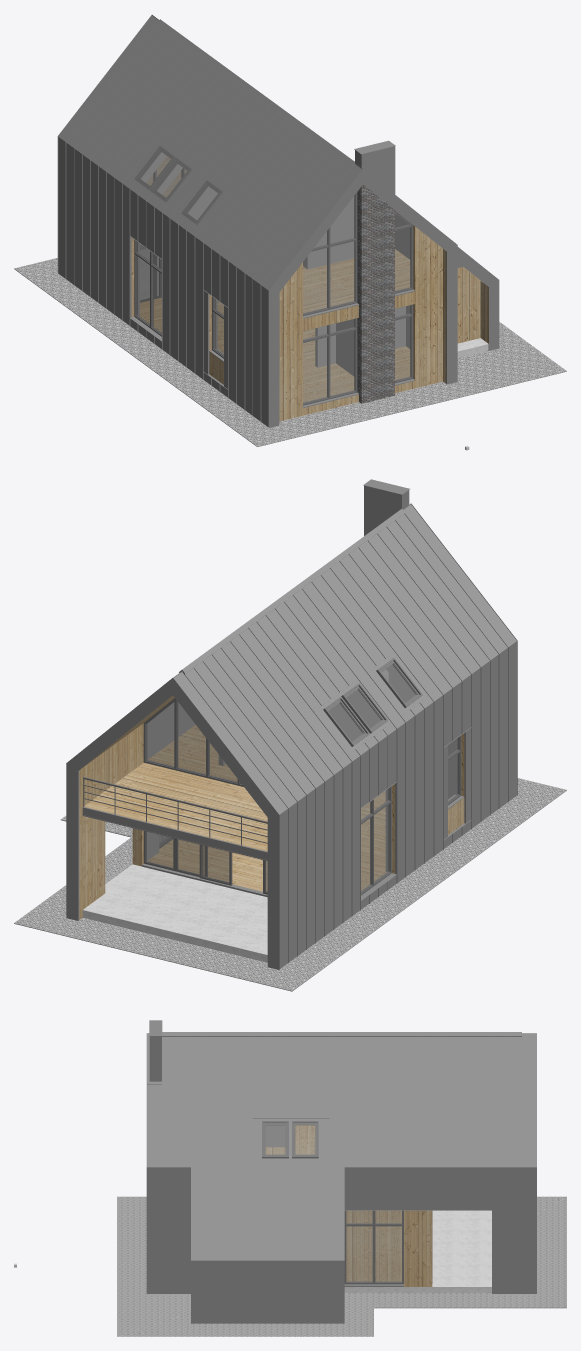
File: domik.glb
The picture shows the model from 3 angles, top to bottom: view 1: azimuth 30°, elevation 25°; view 2: azimuth 150°, elevation 25°; view 3: azimuth 270°, elevation 25°; orthographic projection. The views are drawn at different scales.
Visible parts, largest first — view 1: [0135_DarkGray] (×6), DOSKA 2 (×5), [Groundcover River Rock 4 inch], [Translucent_Glass_Gray] (×9), [Brick Tumbled], Default 150:150:150 (×3), WINDOWS (×3), [Polished Concrete Old]; view 2: [0135_DarkGray] (×5), DOSKA 2 (×3), [Groundcover River Rock 4 inch], [Polished Concrete Old], [Translucent_Glass_Gray] (×7), Default 150:150:150, WINDOWS (×3); view 3: [0135_DarkGray] (×4), [Groundcover River Rock 4 inch], DOSKA 2 (×3), [Polished Concrete Old], [Translucent_Glass_Gray] (×4), WINDOWS, Default 150:150:150.
Boxes of the visible parts, x1,y1,x2,y2 form: [0135_DarkGray] (×6): (58,15,499,427); DOSKA 2 (×5): (131,156,480,421); [Groundcover River Rock 4 inch]: (14,244,566,446); [Translucent_Glass_Gray] (×9): (137,196,410,402); [Brick Tumbled]: (357,185,394,403); Default 150:150:150 (×3): (138,152,410,375); WINDOWS (×3): (134,192,357,405); [Polished Concrete Old]: (140,249,488,357); [0135_DarkGray] (×5): (66,479,516,969); DOSKA 2 (×3): (79,695,464,919); [Groundcover River Rock 4 inch]: (14,778,566,991); [Polished Concrete Old]: (82,864,267,962); [Translucent_Glass_Gray] (×7): (146,702,388,891); Default 150:150:150: (147,665,457,871); WINDOWS (×3): (83,698,391,895); [0135_DarkGray] (×4): (147,1020,536,1323); [Groundcover River Rock 4 inch]: (117,1196,566,1336); DOSKA 2 (×3): (265,1125,432,1286); [Polished Concrete Old]: (344,1210,491,1293); [Translucent_Glass_Gray] (×4): (265,1125,401,1281); WINDOWS: (344,1210,403,1284); Default 150:150:150: (265,1125,285,1147).
Size of the model in its own units: 11.05 by 8.54 by 18.49.
240 materials, 14 textured.
